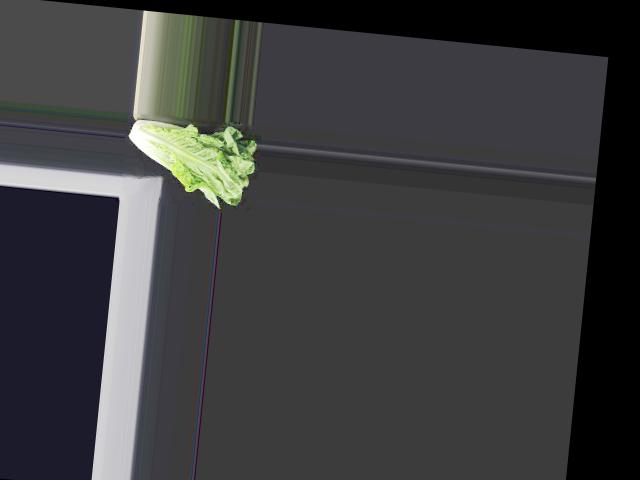lettuce: (121, 115, 260, 210)
